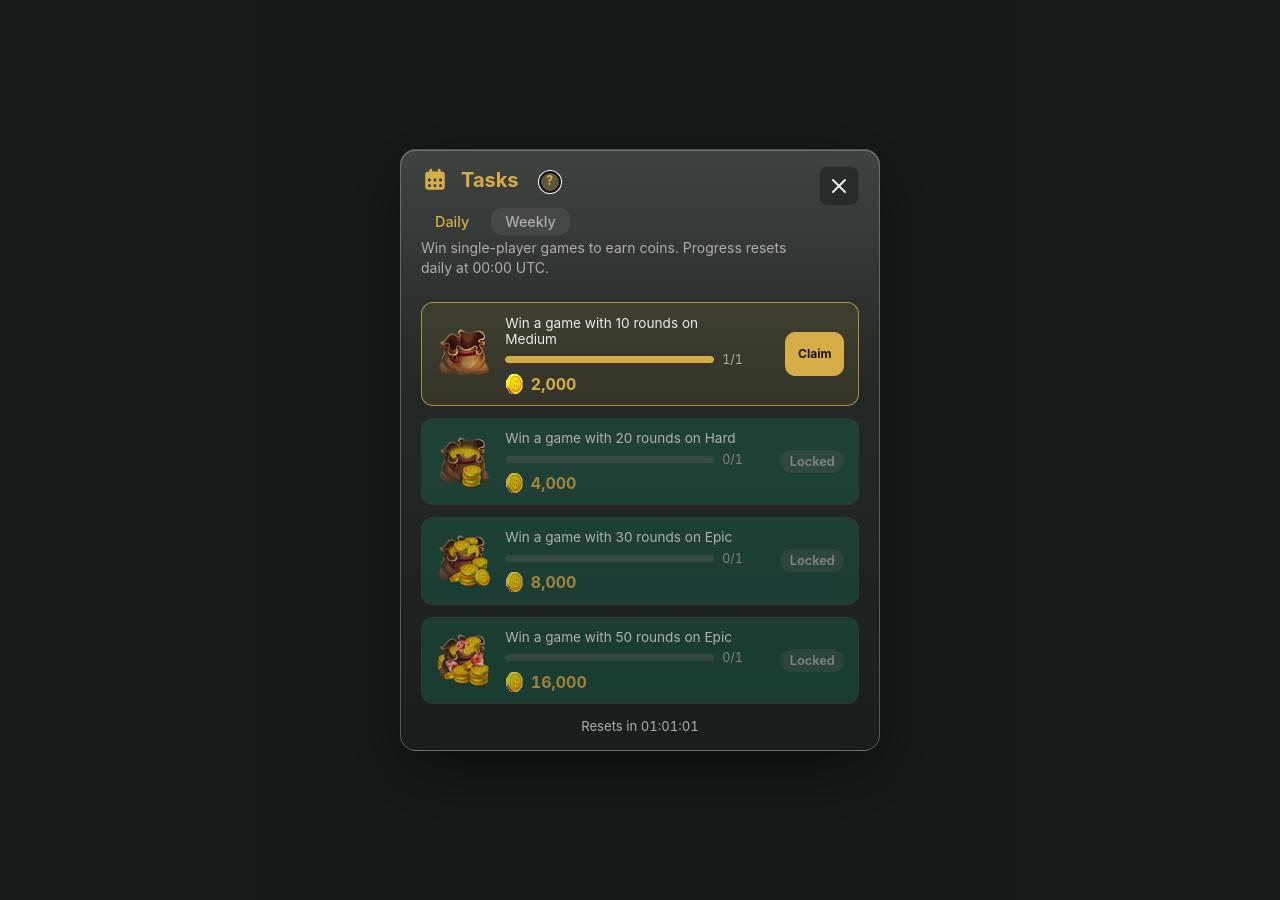
Scenario: DailyTasksDialog — weekly tab › shows a Play button for boss tasks and Claim for a claimable weekly task
Click the button "Weekly": (531, 222) [491,208,570,236]
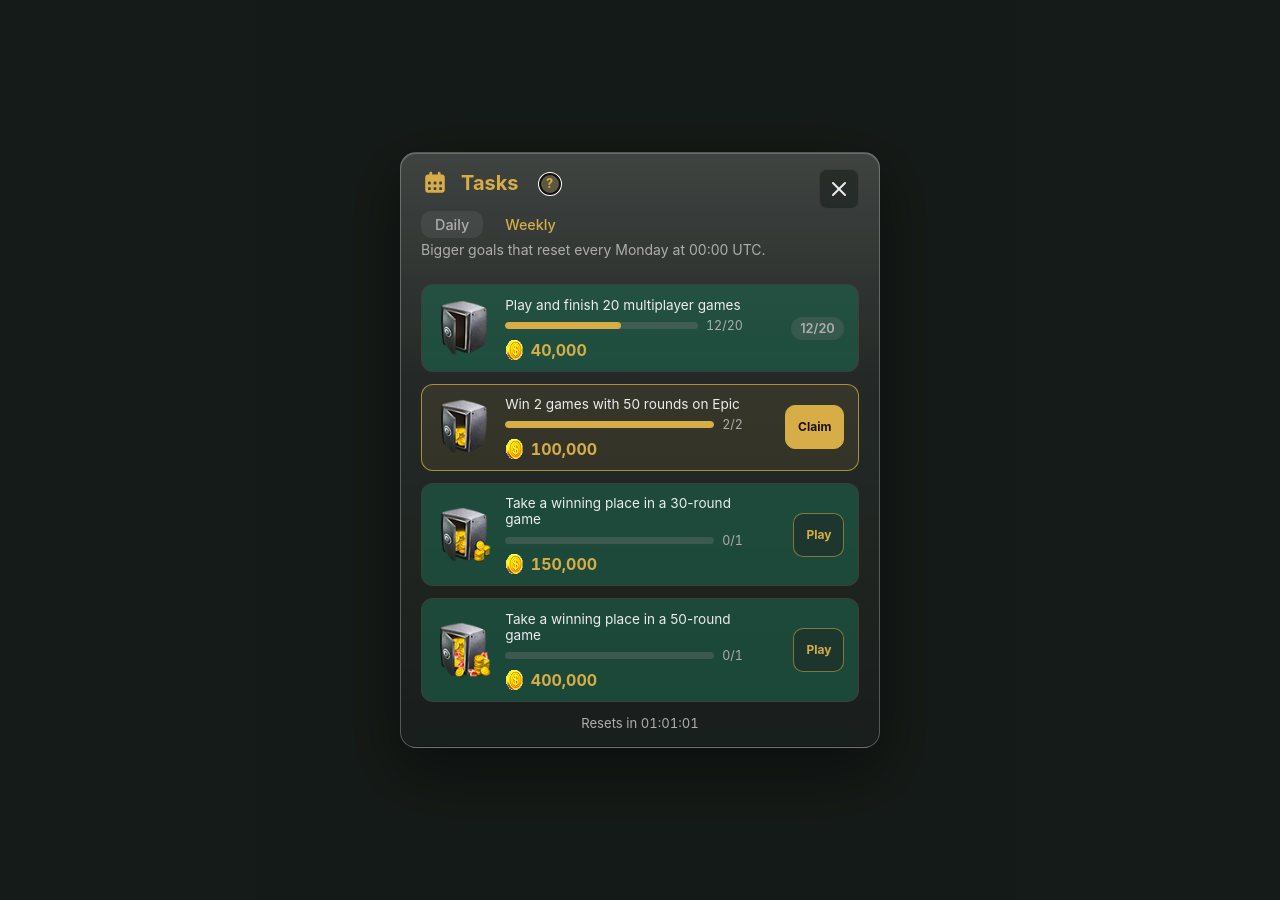
Expected: the button "Claim" is shown, [785,405,844,449]
Now the number of buttons "Play" is 2, box [793,513,844,557]; [793,628,844,672]
